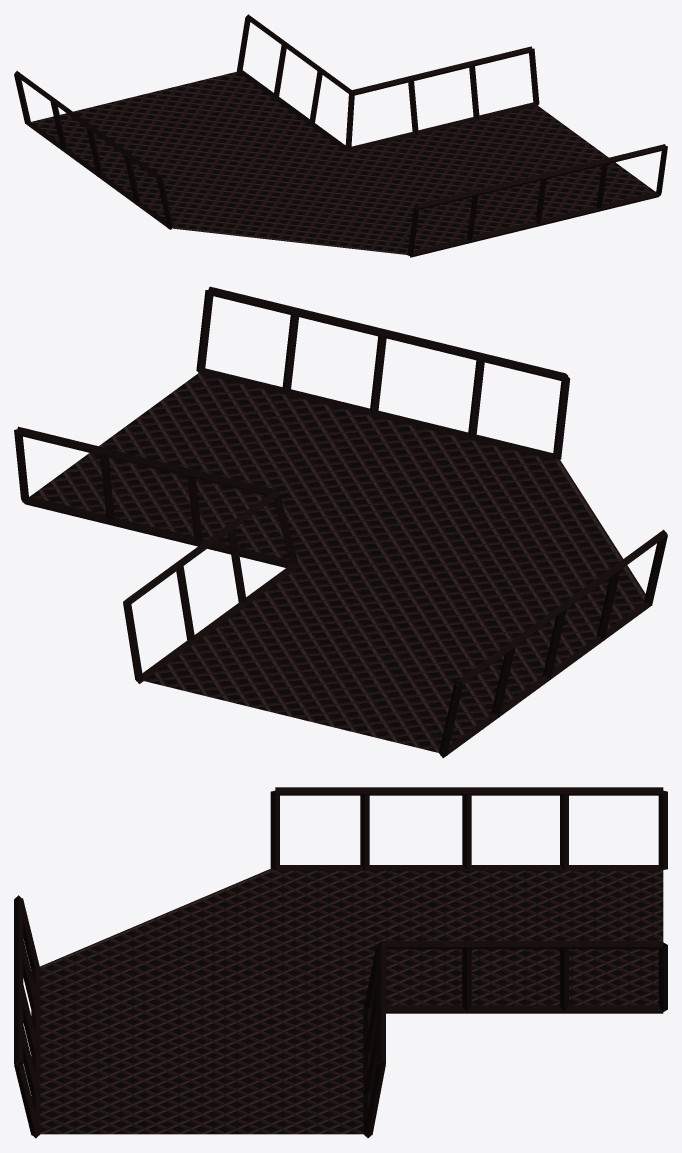
File: Platform_L_Cut1.fbx
The picture shows the model from 3 angles, top to bottom: view 1: azimuth 30°, elevation 25°; view 2: azimuth 150°, elevation 25°; view 3: azimuth 270°, elevation 25°; orthographic projection. The views are drawn at different scales.
Parts seen in each view (by area): view 1: Plat_Lcut1, Plat_Lcut1_Railing1, Plat_Lcut1_Railing2; view 2: Plat_Lcut1, Plat_Lcut1_Railing1, Plat_Lcut1_Railing2; view 3: Plat_Lcut1, Plat_Lcut1_Railing1, Plat_Lcut1_Railing2.
Boxes of the visible parts, bbox=[...] form: Plat_Lcut1: bbox=[31, 71, 655, 254]; Plat_Lcut1_Railing1: bbox=[14, 71, 667, 257]; Plat_Lcut1_Railing2: bbox=[237, 14, 539, 151]; Plat_Lcut1: bbox=[30, 373, 645, 752]; Plat_Lcut1_Railing1: bbox=[196, 286, 667, 758]; Plat_Lcut1_Railing2: bbox=[14, 426, 299, 683]; Plat_Lcut1: bbox=[39, 869, 663, 1134]; Plat_Lcut1_Railing1: bbox=[14, 787, 667, 1138]; Plat_Lcut1_Railing2: bbox=[363, 941, 667, 1137].
Bounding box in the file's own units: 106 × 14.08 × 106.
2 materials, 1 textured.
